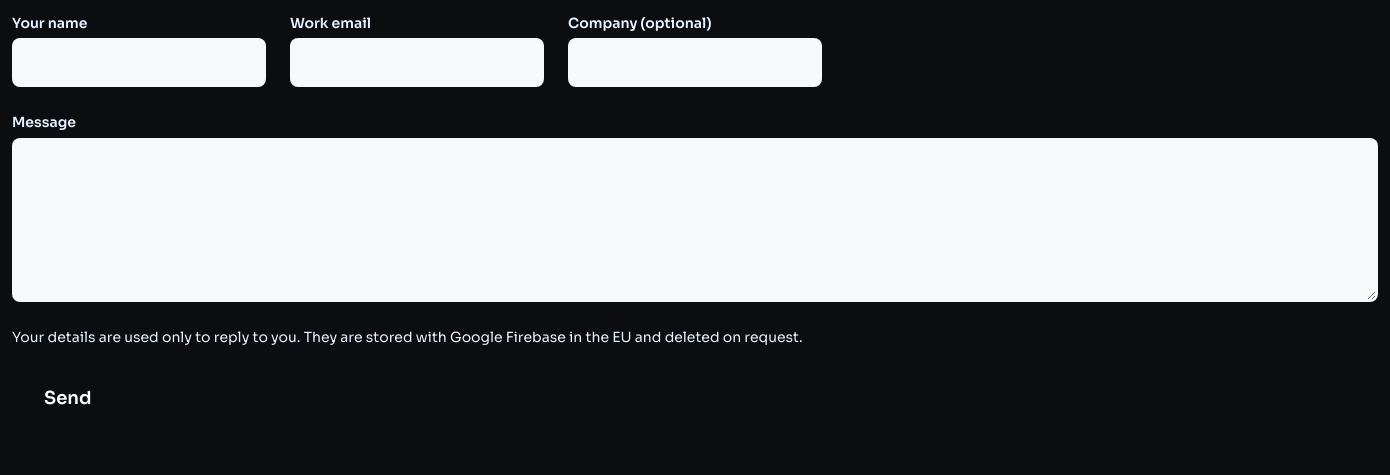
the contact form › sends nothing while something is missing, and points at it
Click the button "Send": (68, 398) [12,372,124,425]
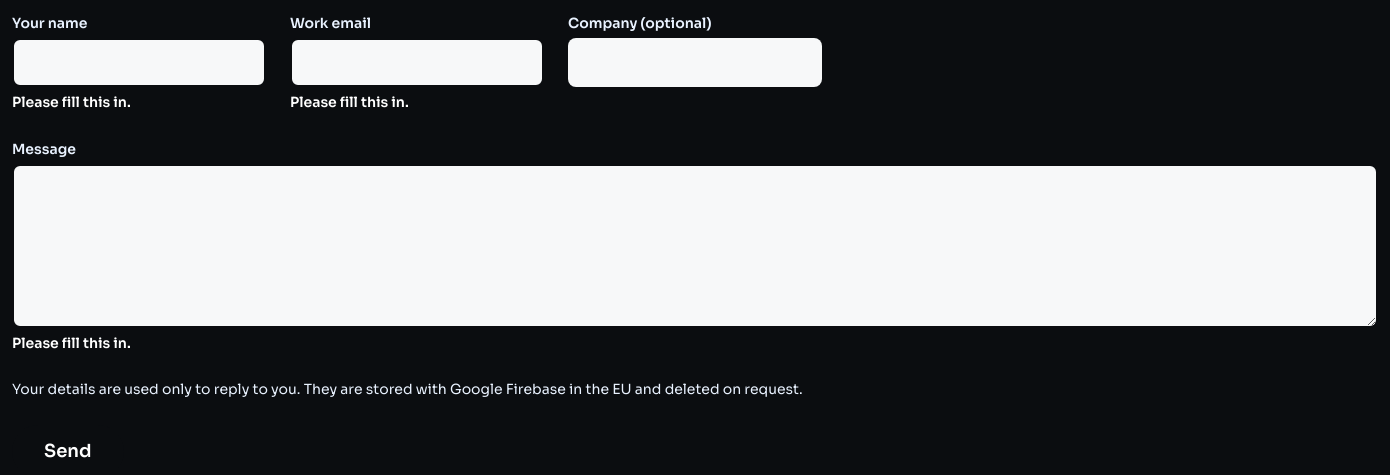
Expected: the text "Please fill this in." is shown 3 times, [12,93,131,111]; [290,93,409,111]; [12,334,131,352]
